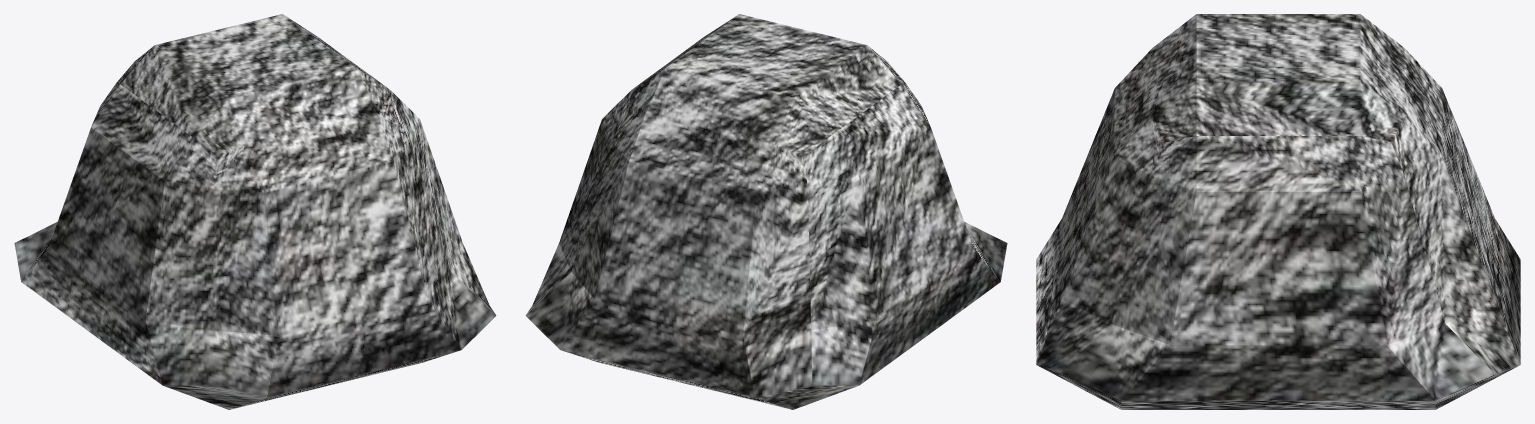
Rendered from iwa.obj.
3 views of the same model, side by side, from view 1: azimuth 30°, elevation 25°; view 2: azimuth 150°, elevation 25°; view 3: azimuth 270°, elevation 25° (orthographic). The views are drawn at different scales.
Parts seen in each view (by area): view 1: pCube1; view 2: pCube1; view 3: pCube1.
Boxes of the visible parts, x1,y1,x2,y2 form: pCube1: (14, 14, 496, 409); pCube1: (525, 14, 1007, 409); pCube1: (1036, 14, 1520, 409).
Bounding box in the file's own units: 6.41 × 5.2 × 7.4.
1 material, 1 textured.
